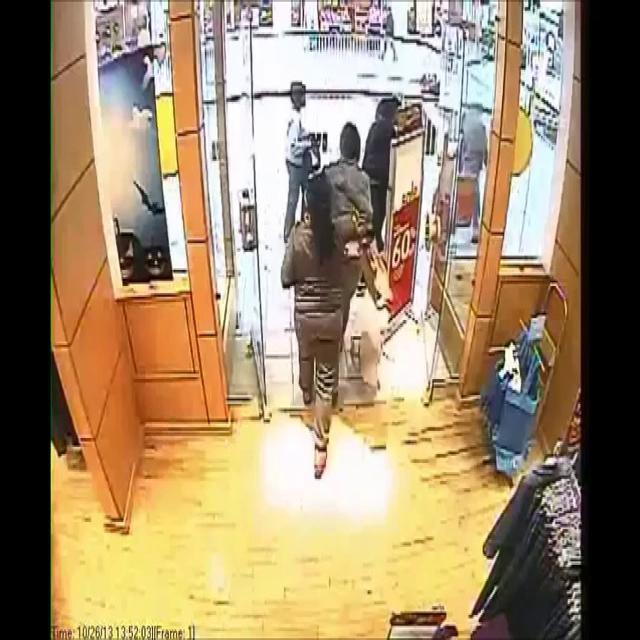normal: (271, 159, 358, 473), (268, 63, 318, 157), (374, 80, 408, 172), (335, 109, 362, 201)
